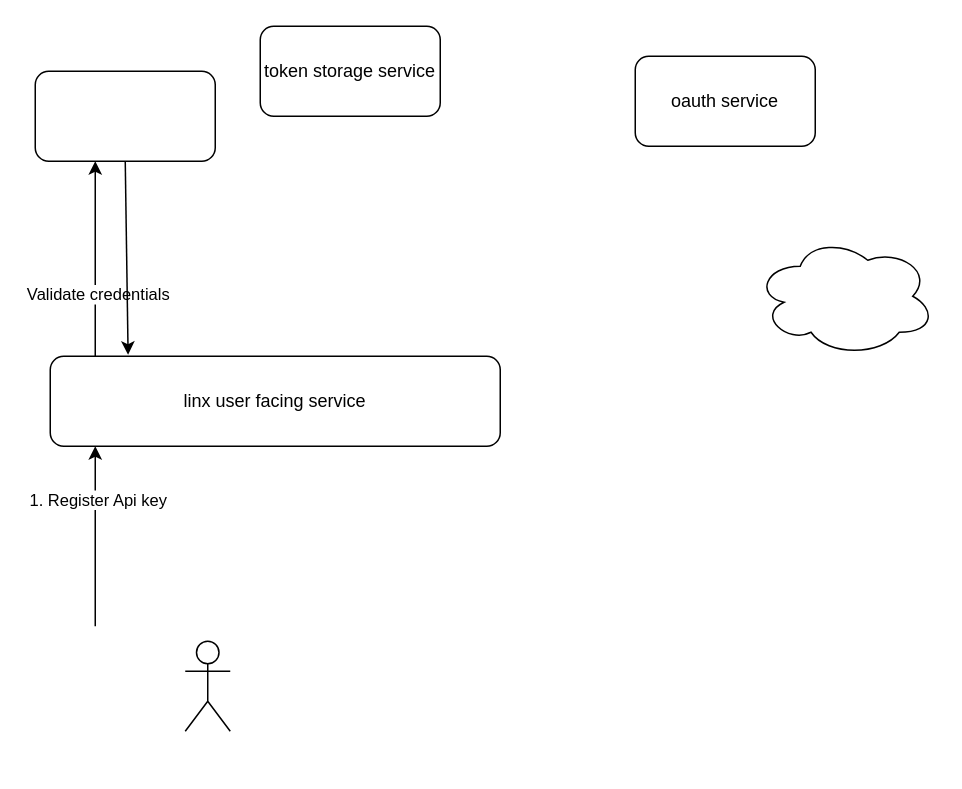
Image size: 962x789. Some labels were removed from this diagram. The centre of each missing label's shape, as x and y in pixels:
"Actor" goes at (207,685).
"user admin service" goes at (124,115).
